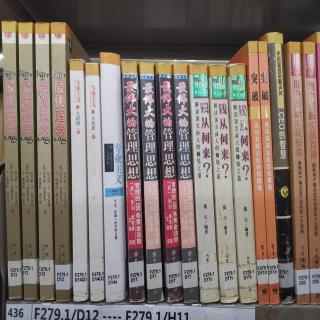book-spine: (186, 61, 220, 304), (266, 32, 296, 307), (207, 65, 240, 305), (228, 64, 258, 306), (171, 62, 199, 304), (245, 38, 270, 308), (286, 41, 311, 307), (156, 60, 183, 306), (32, 22, 55, 301), (100, 52, 125, 303), (0, 20, 22, 300), (257, 41, 280, 308), (120, 60, 145, 304), (50, 22, 71, 304), (140, 61, 164, 304), (17, 22, 37, 300), (82, 62, 104, 303), (67, 58, 88, 301), (302, 43, 320, 306)
